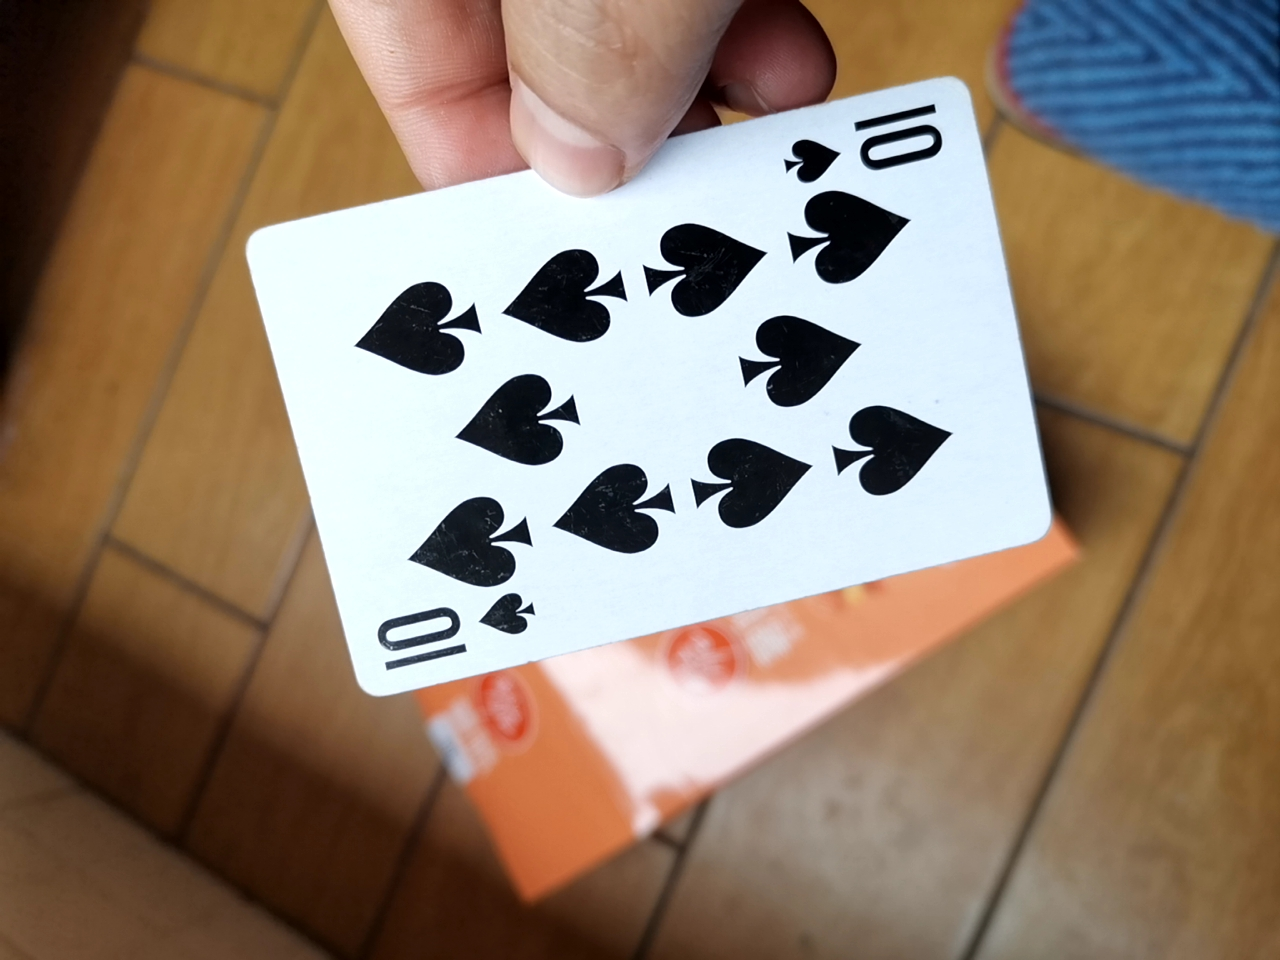ht 10: (227, 71, 1071, 717)
